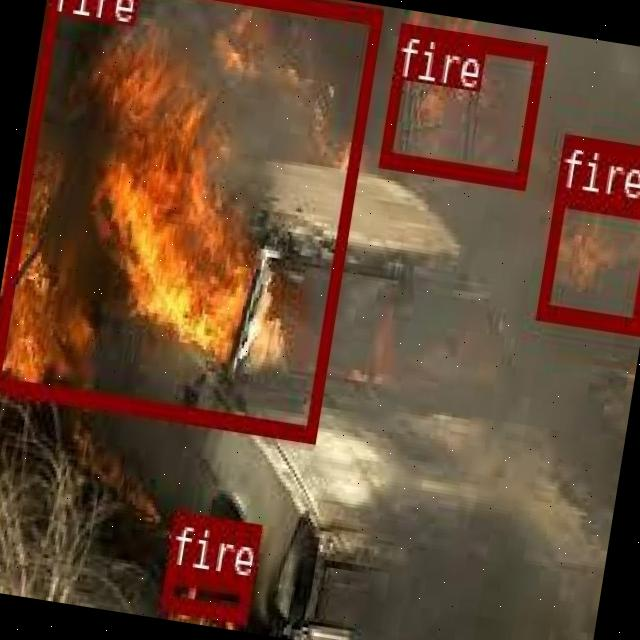fire: (0, 0, 381, 439), (377, 21, 546, 186), (535, 186, 640, 330), (160, 566, 250, 621)
